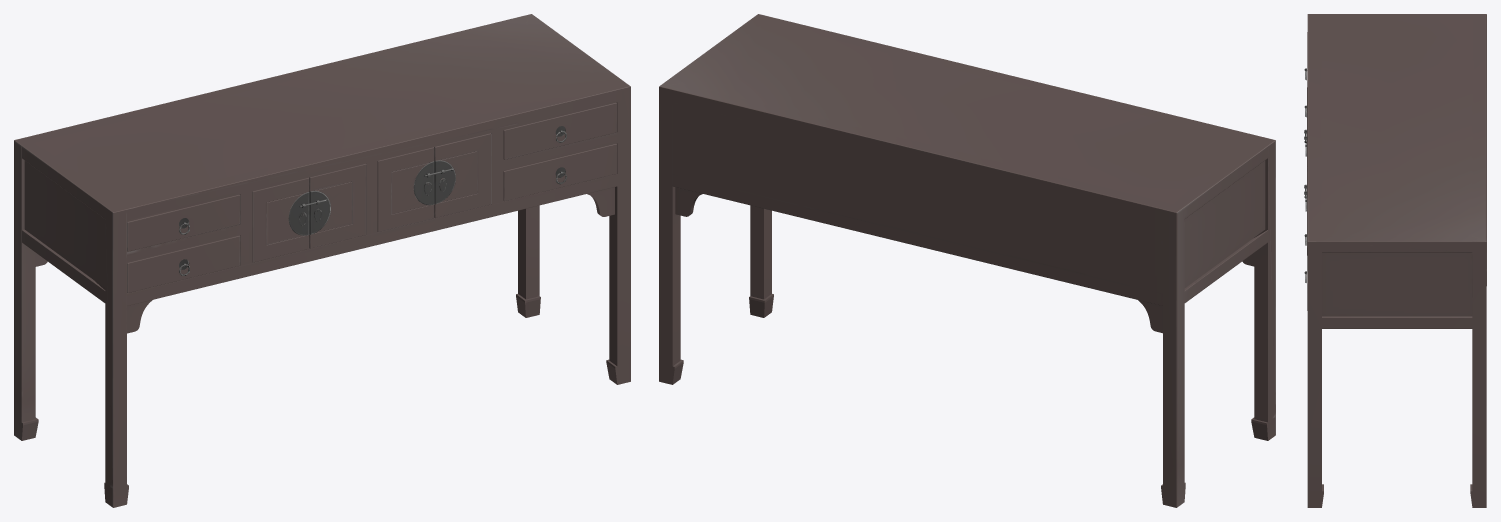
The model's file is raw_model.obj.
3 views of the same model, side by side, from view 1: azimuth 30°, elevation 25°; view 2: azimuth 150°, elevation 25°; view 3: azimuth 270°, elevation 25° (orthographic). The views are drawn at different scales.
Visible parts, largest first — view 1: solid_001, solid_003, solid_002; view 2: solid_001, solid_003; view 3: solid_001, solid_002.
Boxes of the visible parts, x1,y1,x2,y2 form: solid_001: [14, 14, 630, 507]; solid_003: [35, 102, 616, 333]; solid_002: [179, 126, 566, 275]; solid_001: [659, 14, 1275, 507]; solid_003: [675, 187, 1254, 333]; solid_001: [1307, 14, 1486, 507]; solid_002: [1304, 68, 1306, 282].
Bounding box in the file's own units: 1.51 × 0.82 × 0.5099.
1 material, 1 textured.
